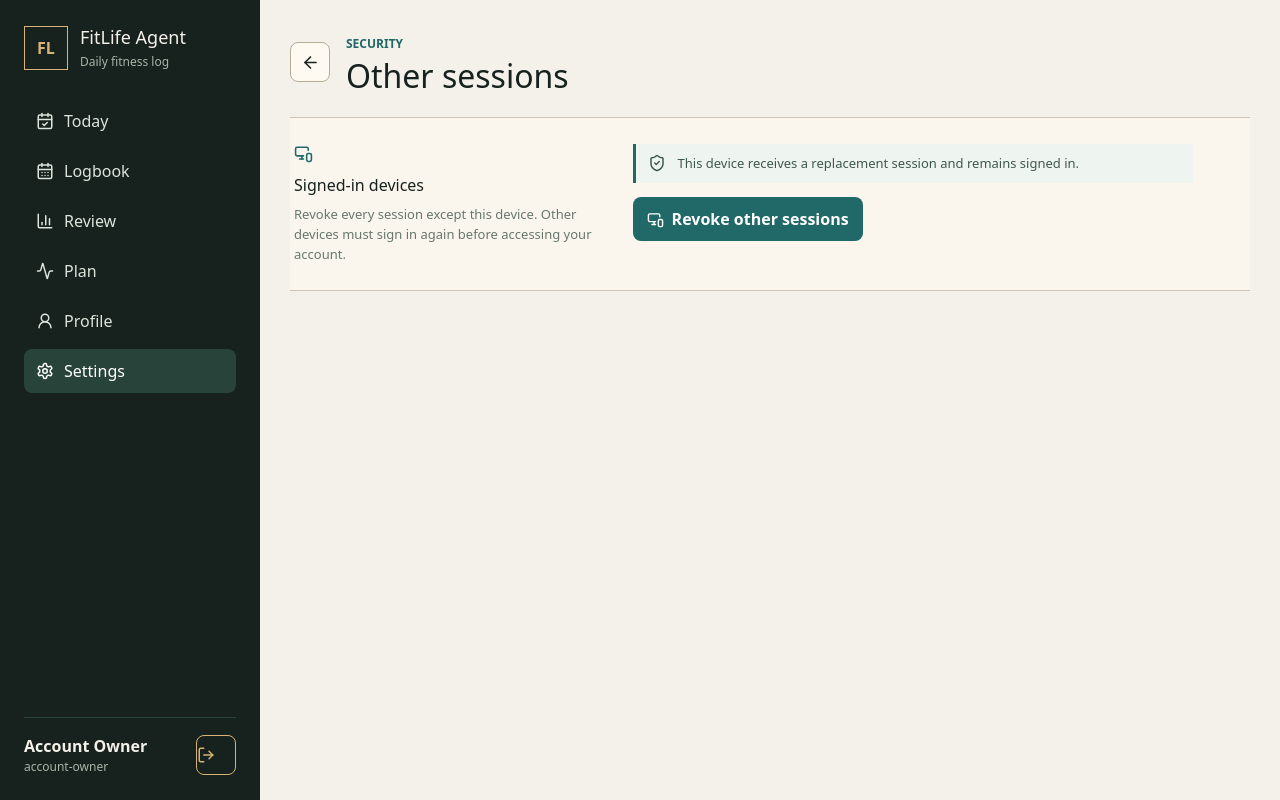
Test case: keeps a session task error isolated when navigating to the password task
Step 1. Click the button "Revoke other sessions" → (748, 219), box x1=633 y1=197 x2=863 y2=241
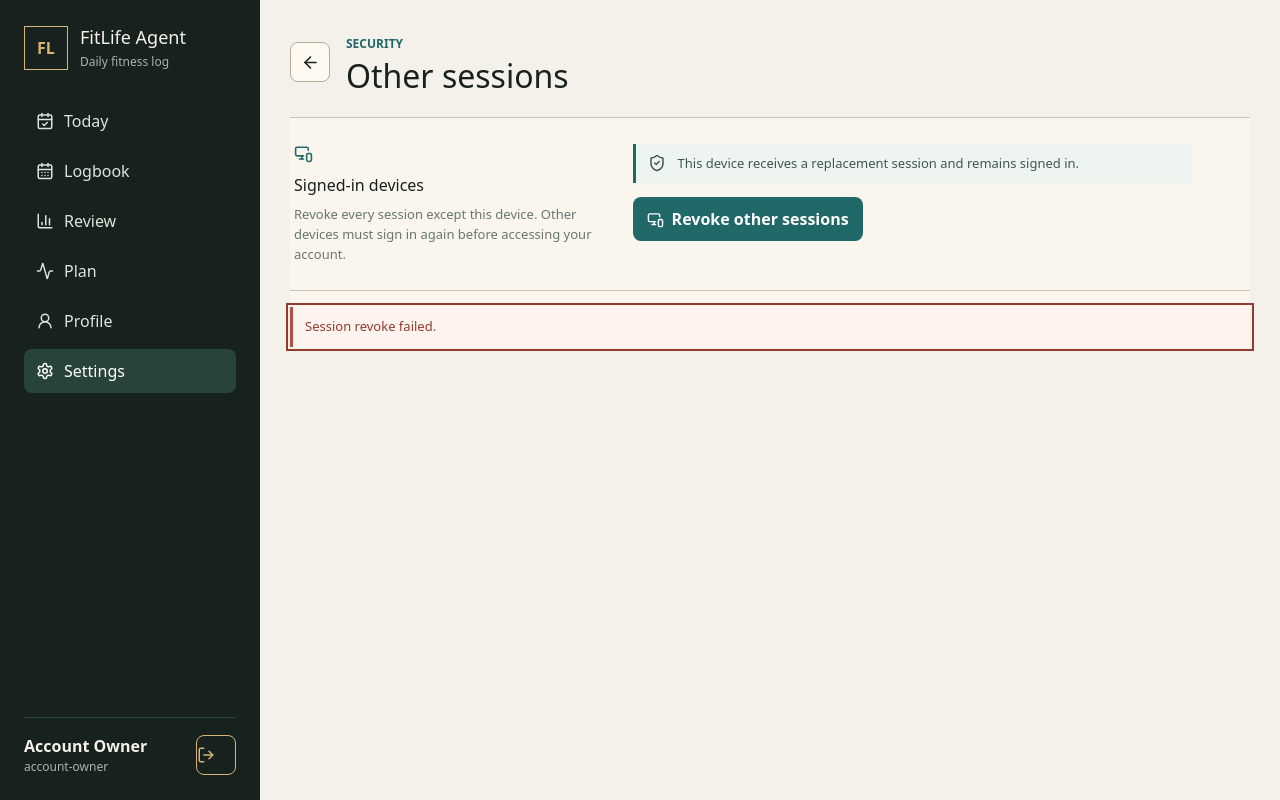
Result: the message reads "Session revoke failed." at x1=305 y1=317 x2=436 y2=335
Step 2. Click the link named "Back" → (310, 62), box x1=290 y1=42 x2=330 y2=82
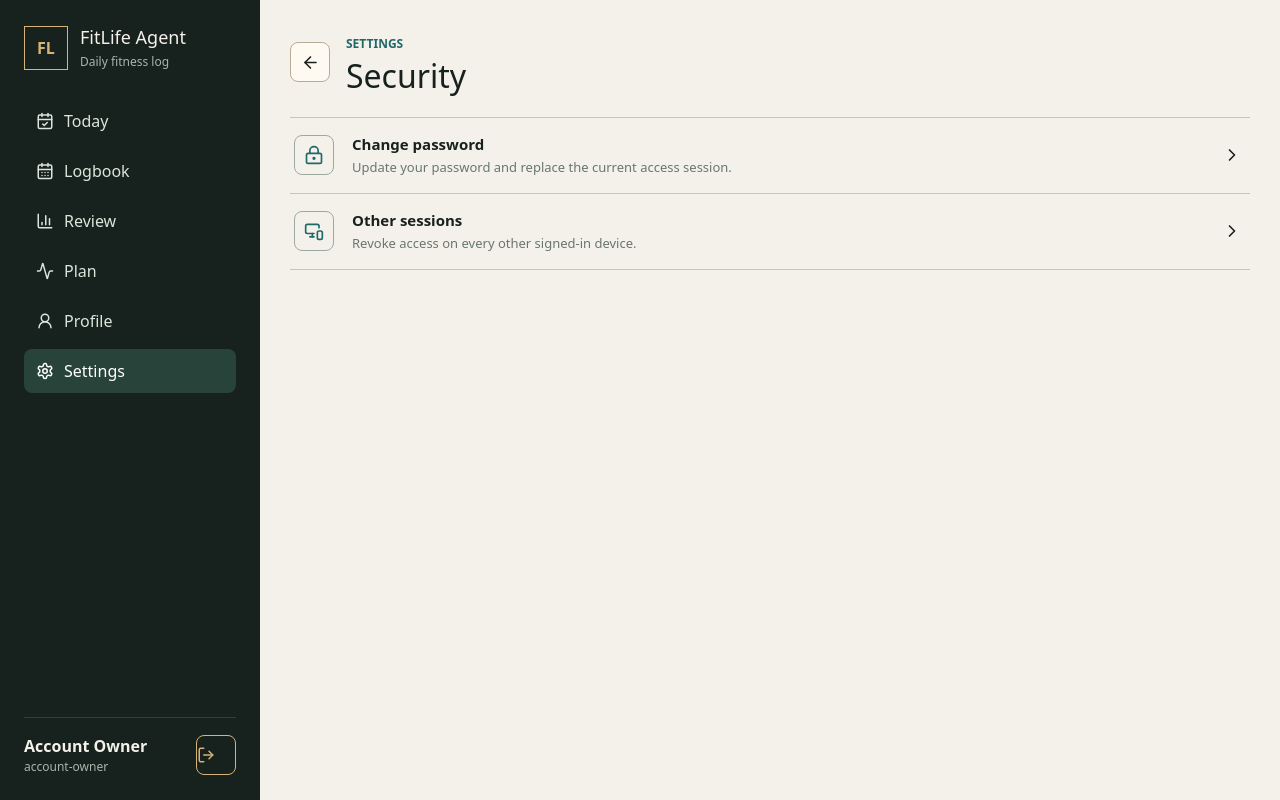
Step 3. Click the link "Change password" → (314, 155), box x1=290 y1=118 x2=1250 y2=194
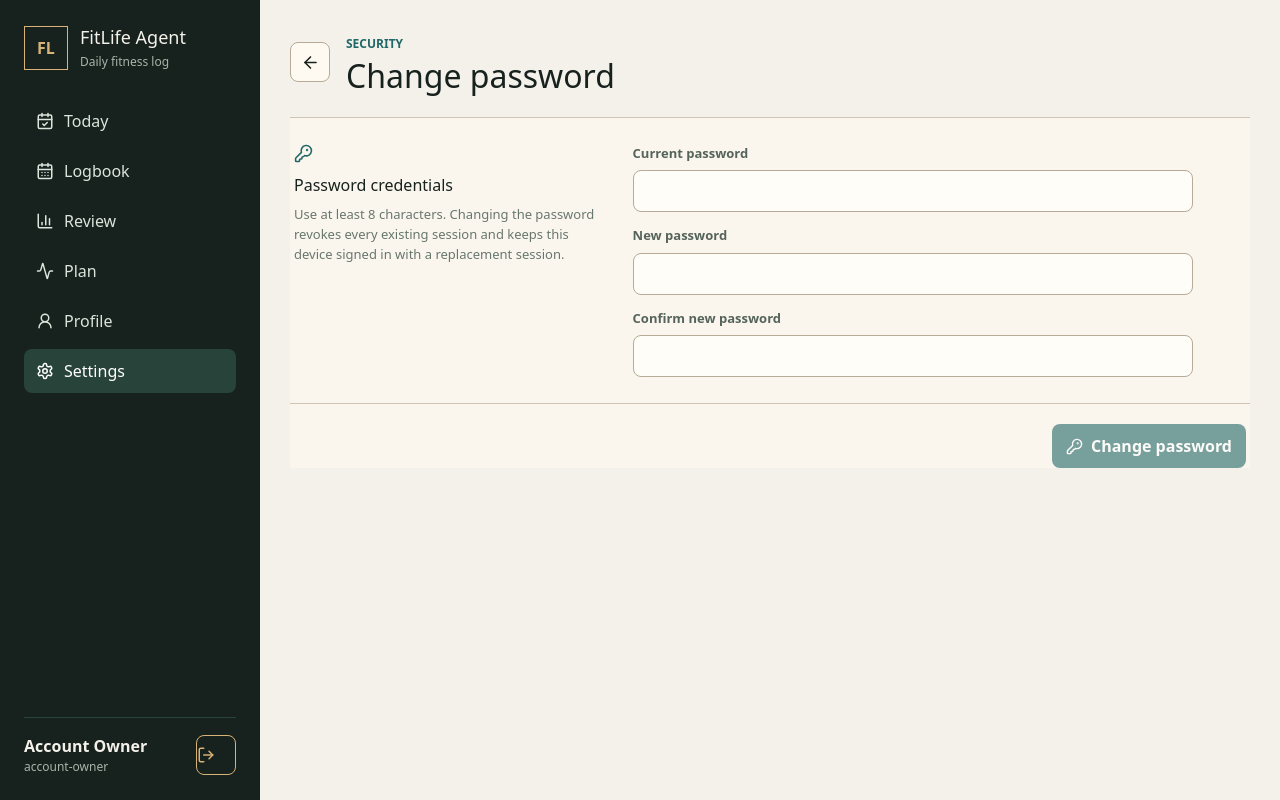
Expected: the text "Session revoke failed." is not shown
Result: the heading "Change password" is shown at x1=346 y1=54 x2=615 y2=97
